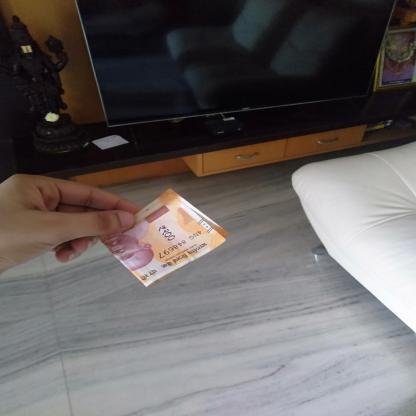New200Front: (103, 198, 213, 284)
